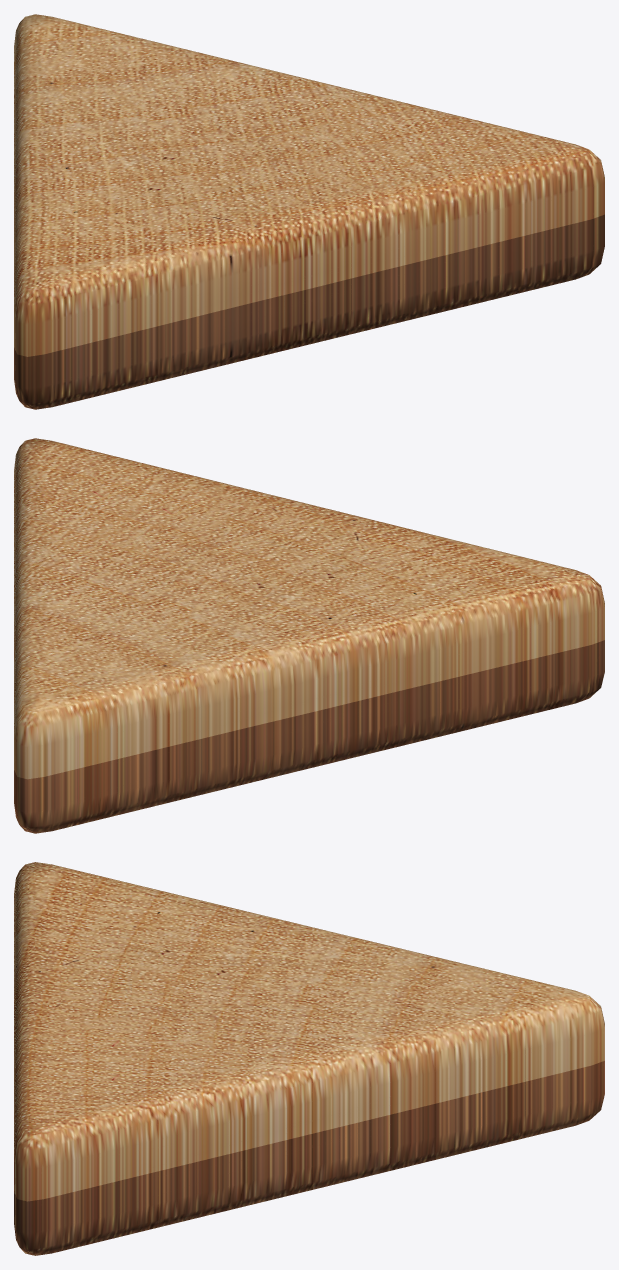
Rendered from TriangleHighPoly.FBX.
The picture shows the model from 3 angles, top to bottom: view 1: azimuth 30°, elevation 25°; view 2: azimuth 150°, elevation 25°; view 3: azimuth 270°, elevation 25°; orthographic projection.
Parts seen in each view (by area): view 1: TriangleHighPoly; view 2: TriangleHighPoly; view 3: TriangleHighPoly.
Part boxes in pixels (x1,y1,x2,y2): TriangleHighPoly: (14,14,604,409); TriangleHighPoly: (14,438,604,833); TriangleHighPoly: (14,862,604,1255).
Bounding box in the file's own units: 9.67 × 2 × 8.42.
